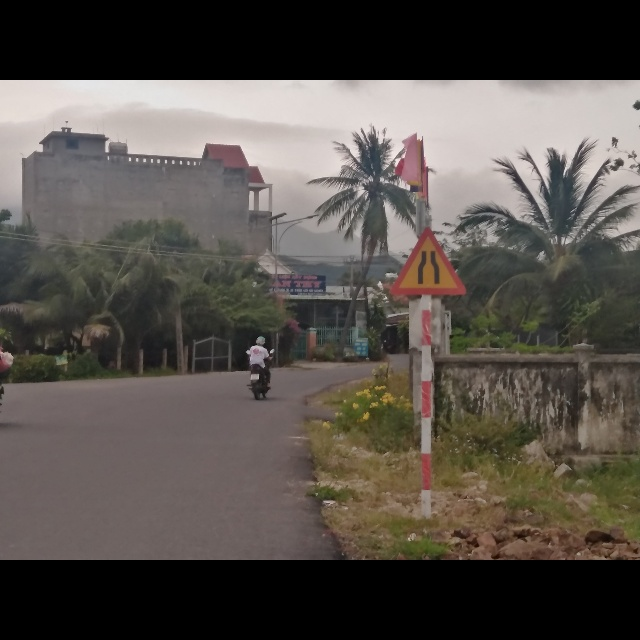Đường bị hẹp cả hai bên: (391, 226, 467, 297)
